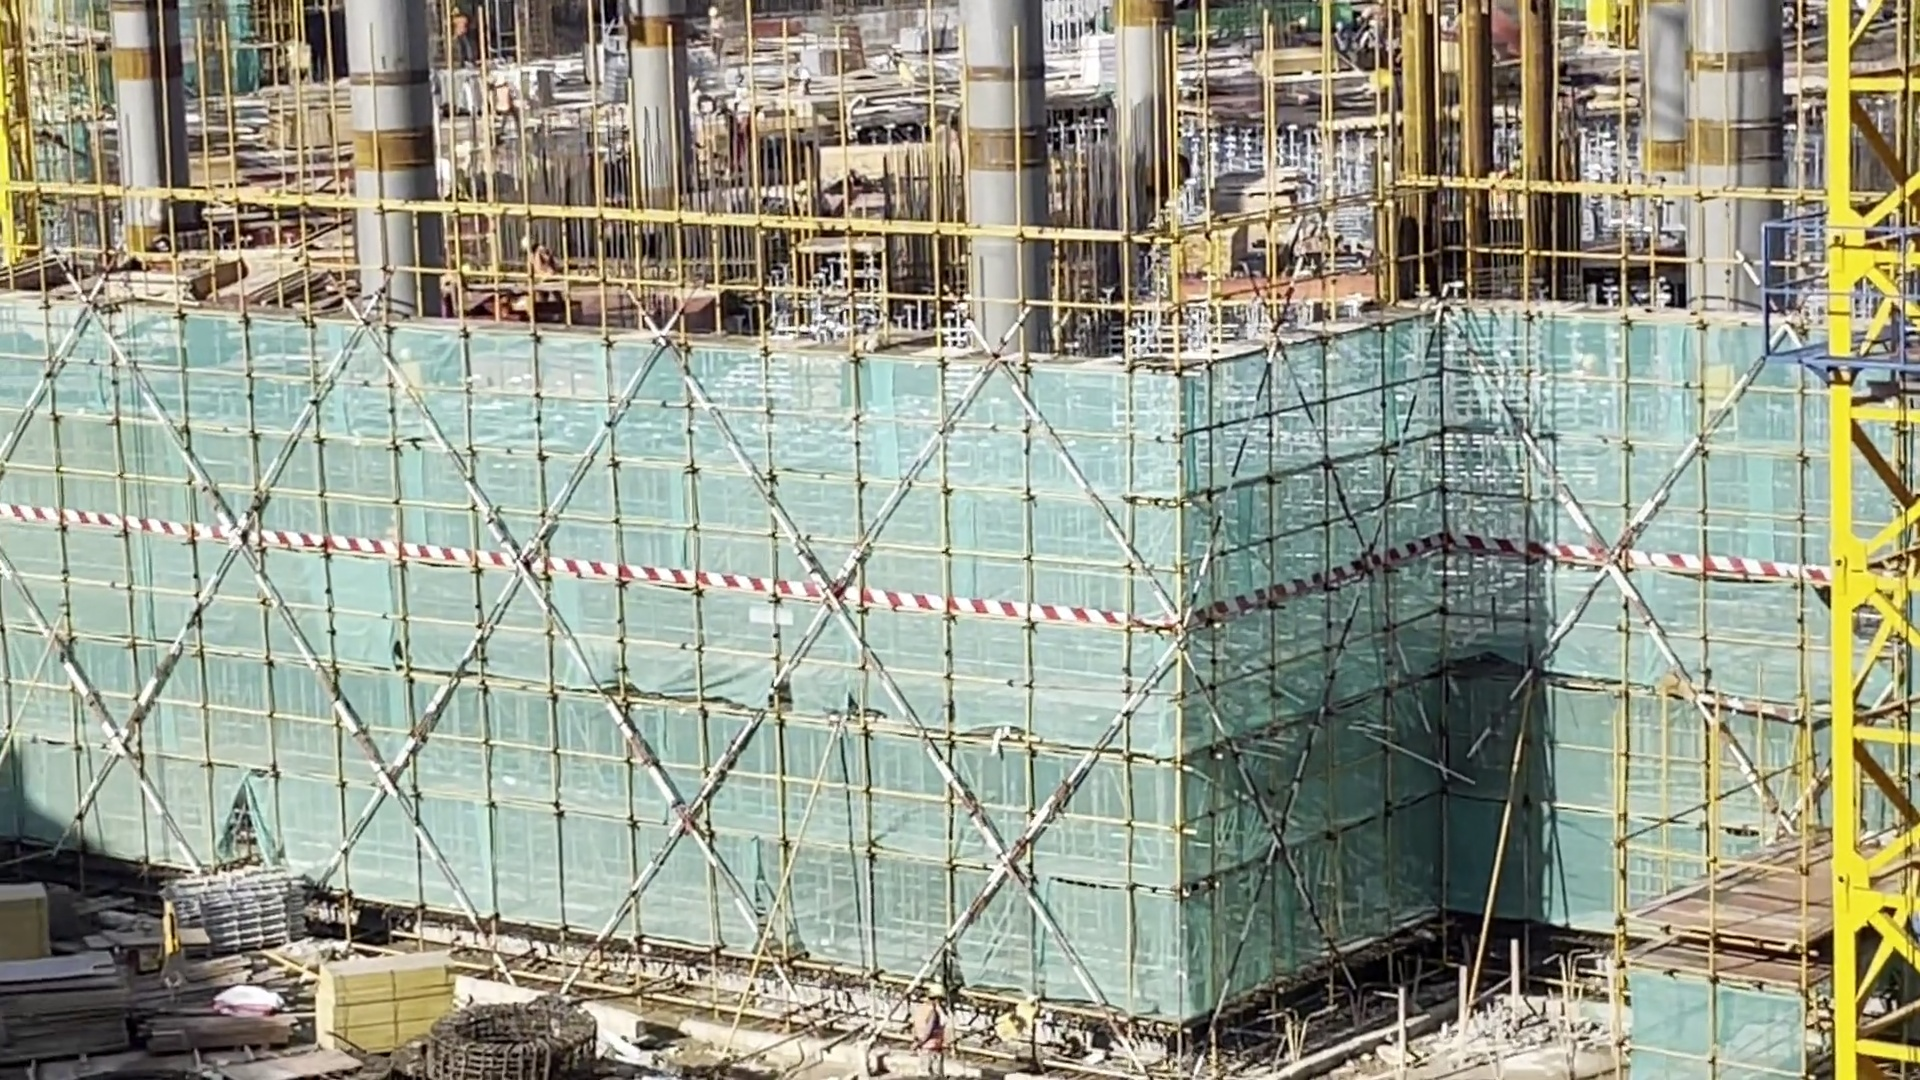board: (1, 966, 128, 1062), (323, 961, 443, 1054), (1, 885, 47, 952)
ebox: (1585, 1, 1617, 41)
person: (917, 983, 945, 1080), (519, 234, 555, 308), (711, 10, 725, 61)
scaffold: (182, 881, 304, 942)
